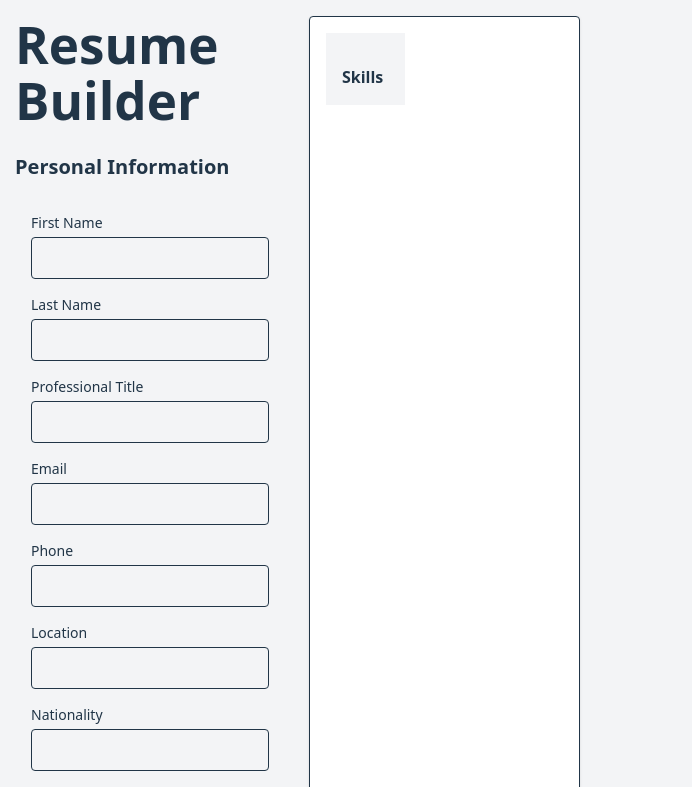
Test case: ResumeBuilder Integration Test › updates preview when personal info is filled
Type "Daniel" into the field labelled "First Name" at (150, 258), box [31, 237, 269, 279]
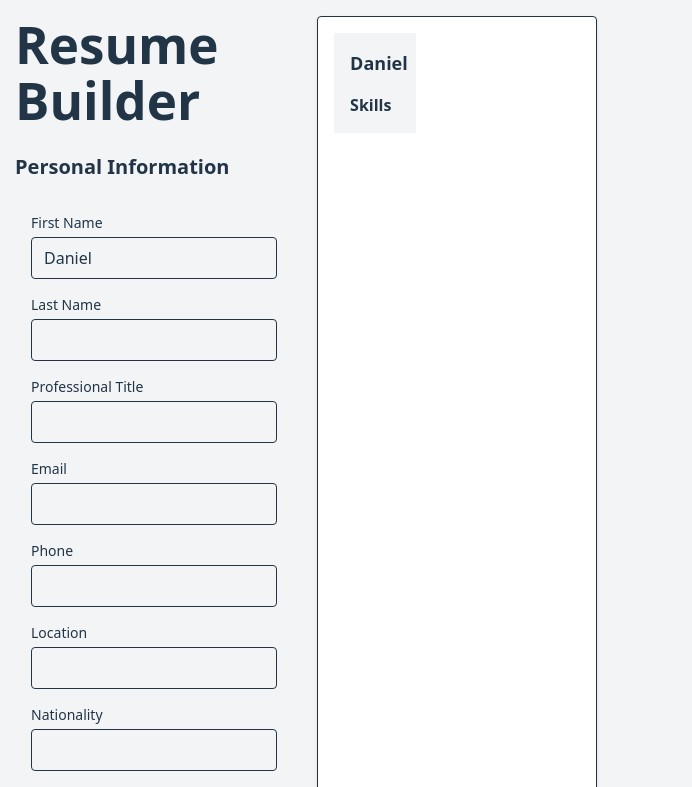
Type "Waduka" into the field labelled "Last Name" at (154, 340), box [31, 319, 277, 361]
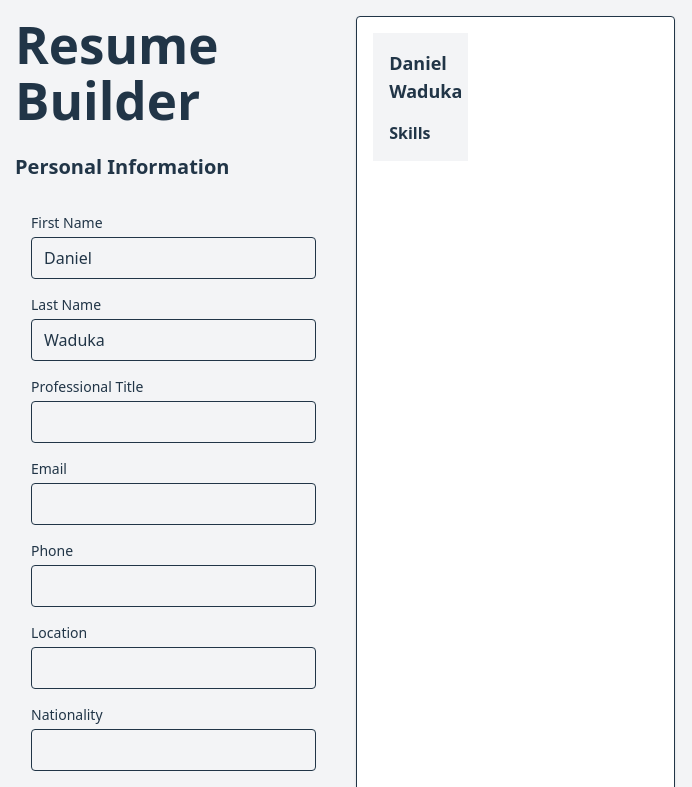
Type "Full Stack Developer" into the field labelled "Professional Title" at (174, 422), box [31, 401, 316, 443]
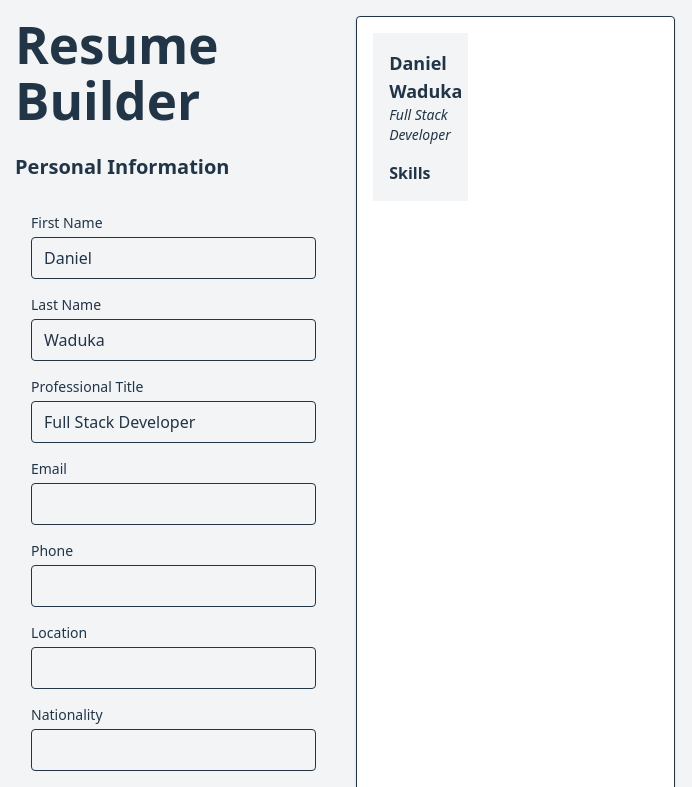
Result: the heading "Daniel Waduka" is shown at [389, 49, 452, 105]
Result: the text "Full Stack Developer" is shown at [389, 105, 452, 145]
